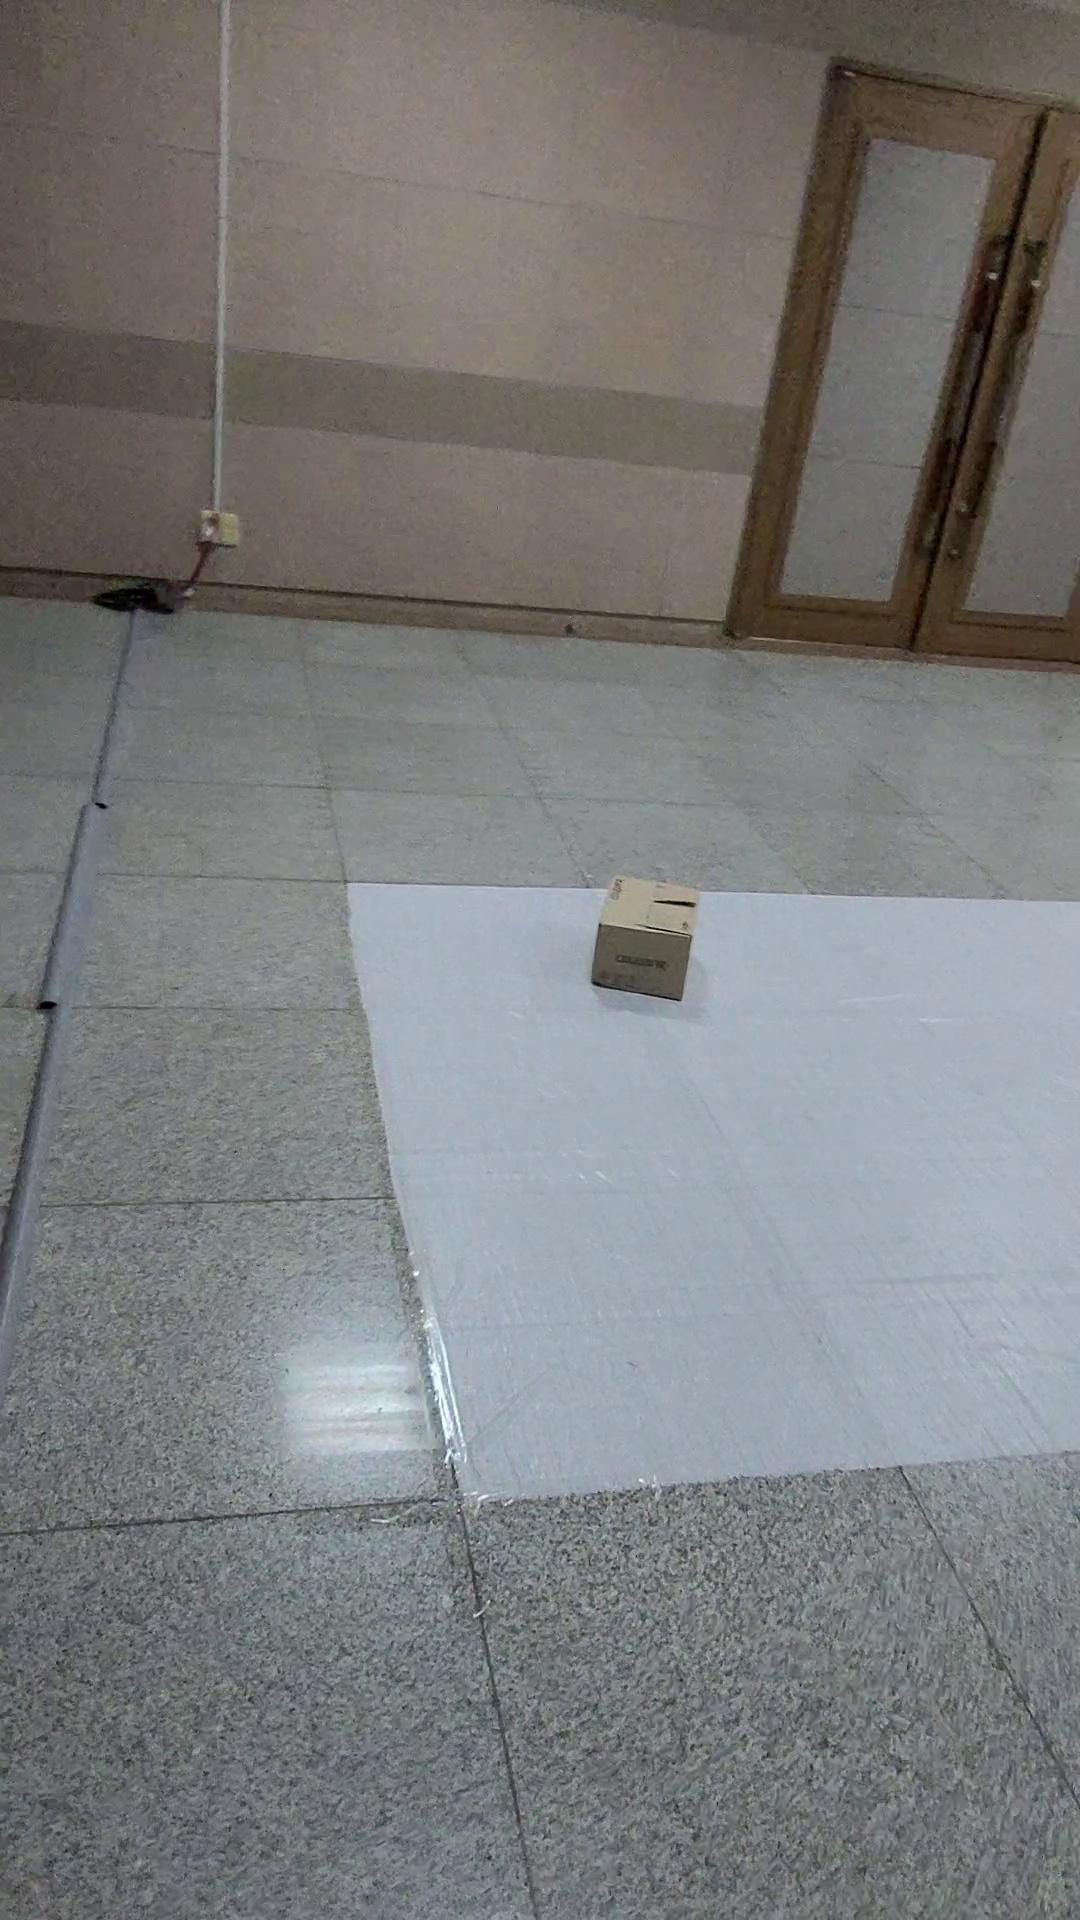Box: (546, 868, 735, 1007)
